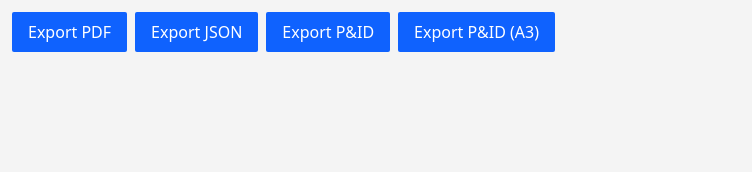
Test: downloads PDF with hash and seed
Click the button "Export PDF" at (70,32), box 12,12 -> 127,52
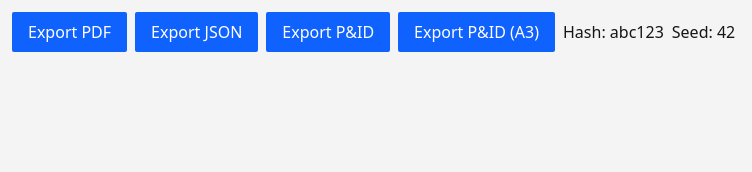
Now the text "Hash: abc123" is shown, box 563,20 -> 664,44
Now the text "Seed: 42" is shown, box 672,20 -> 735,44
